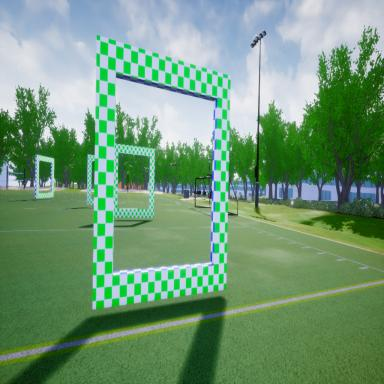gate: (90, 27, 233, 320), (111, 140, 155, 219), (31, 143, 58, 207)
